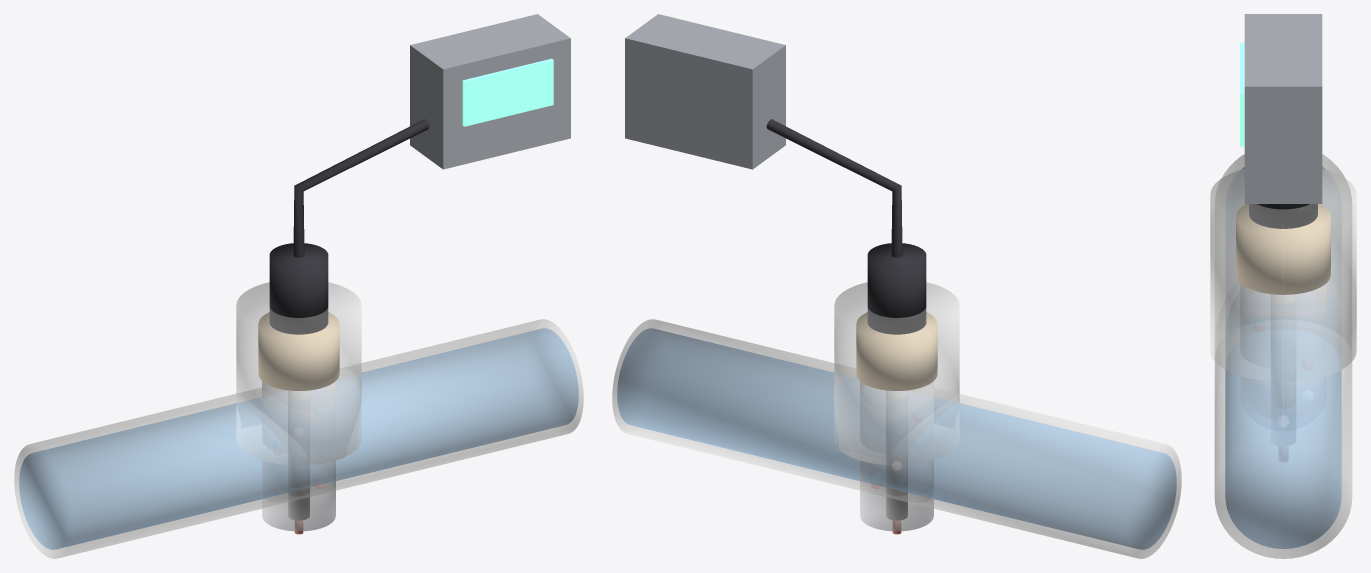
File: resist.glb
The picture shows the model from 3 angles, left to right: view 1: azimuth 30°, elevation 25°; view 2: azimuth 150°, elevation 25°; view 3: azimuth 270°, elevation 25°; orthographic projection. The views are drawn at different scales.
Visible parts, largest first — view 1: 配管, 配管_液, 三通, 变送器, 外电极, 接头, 绝缘体, 变送器_屏, 电缆, 内电极; view 2: 配管, 配管_液, 变送器, 三通, 外电极, 接头, 绝缘体, 电缆, 内电极; view 3: 配管, 配管_液, 三通, 变送器, 绝缘体, 外电极, 接头, 内电极, 变送器_屏.
Boxes of the visible parts, left/top/right/bottom form: 配管: left=14, top=319, right=583, bottom=558; 配管_液: left=19, top=328, right=578, bottom=549; 三通: left=236, top=282, right=361, bottom=465; 变送器: left=410, top=14, right=570, bottom=169; 外电极: left=262, top=381, right=335, bottom=531; 接头: left=269, top=243, right=328, bottom=334; 绝缘体: left=258, top=312, right=339, bottom=390; 变送器_屏: left=462, top=58, right=553, bottom=126; 电缆: left=293, top=119, right=429, bottom=257; 内电极: left=288, top=391, right=309, bottom=520; 配管: left=612, top=319, right=1181, bottom=558; 配管_液: left=617, top=328, right=1176, bottom=549; 变送器: left=625, top=14, right=785, bottom=169; 三通: left=834, top=282, right=959, bottom=465; 外电极: left=860, top=381, right=933, bottom=531; 接头: left=867, top=243, right=926, bottom=334; 绝缘体: left=856, top=312, right=937, bottom=390; 电缆: left=766, top=119, right=902, bottom=257; 内电极: left=886, top=391, right=907, bottom=520; 配管: left=1214, top=154, right=1352, bottom=558; 配管_液: left=1225, top=167, right=1341, bottom=548; 三通: left=1210, top=169, right=1356, bottom=381; 变送器: left=1244, top=14, right=1322, bottom=203; 绝缘体: left=1236, top=204, right=1330, bottom=294; 外电极: left=1240, top=283, right=1326, bottom=420; 接头: left=1249, top=204, right=1317, bottom=228; 内电极: left=1271, top=294, right=1295, bottom=408; 变送器_屏: left=1240, top=43, right=1244, bottom=146.
Size of the model in its own units: 1.6 by 1.33 by 0.34.
